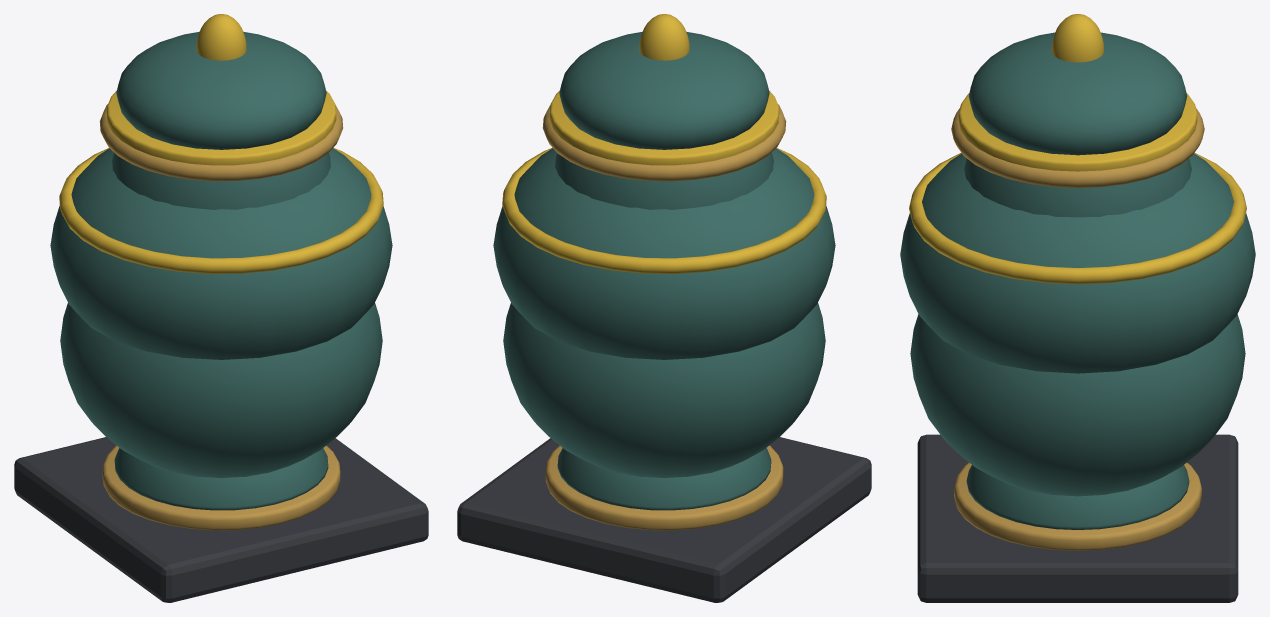
File: furnishing_urn.glb
3 renders of one model, left to right at view 1: azimuth 30°, elevation 25°; view 2: azimuth 150°, elevation 25°; view 3: azimuth 270°, elevation 25°, orthographic. The views are drawn at different scales.
Parts seen in each view (by area): view 1: Urn Body Upper, Urn Body Lower, Urn Plinth, Urn Lid Dome, Urn Lower Foot, Urn Gold Band Upper, Urn Neck, Urn Foot Ring, Urn Lid Rim, Urn Collar Rim, Urn Lid Finial; view 2: Urn Body Upper, Urn Body Lower, Urn Plinth, Urn Lid Dome, Urn Lower Foot, Urn Gold Band Upper, Urn Neck, Urn Foot Ring, Urn Lid Rim, Urn Collar Rim, Urn Lid Finial; view 3: Urn Body Upper, Urn Body Lower, Urn Plinth, Urn Lid Dome, Urn Lower Foot, Urn Gold Band Upper, Urn Neck, Urn Foot Ring, Urn Lid Rim, Urn Collar Rim, Urn Lid Finial.
Boxes of the visible parts, x1,y1,x2,y2 form: Urn Body Upper: (50,148,392,359); Urn Body Lower: (60,303,382,478); Urn Plinth: (14,437,428,602); Urn Lid Dome: (116,31,326,149); Urn Lower Foot: (114,448,328,510); Urn Gold Band Upper: (59,148,383,273); Urn Neck: (112,152,330,209); Urn Foot Ring: (102,445,340,530); Urn Lid Rim: (106,90,336,165); Urn Collar Rim: (99,104,343,181); Urn Lid Finial: (196,14,246,60); Urn Body Upper: (493,148,835,359); Urn Body Lower: (503,303,825,478); Urn Plinth: (457,437,871,602); Urn Lid Dome: (559,31,769,149); Urn Lower Foot: (557,448,771,510); Urn Gold Band Upper: (502,148,826,273); Urn Neck: (555,152,773,209); Urn Foot Ring: (545,445,783,530); Urn Lid Rim: (549,90,779,165); Urn Collar Rim: (542,104,786,181); Urn Lid Finial: (639,14,689,60); Urn Body Upper: (900,153,1255,373); Urn Body Lower: (910,314,1245,496); Urn Plinth: (917,434,1238,602); Urn Lid Dome: (968,32,1187,155); Urn Lower Foot: (966,465,1189,529); Urn Gold Band Upper: (909,152,1246,284); Urn Neck: (964,158,1191,217); Urn Foot Ring: (954,462,1201,550); Urn Lid Rim: (958,93,1197,171); Urn Collar Rim: (951,108,1204,187); Urn Lid Finial: (1051,14,1104,62).
Size of the model in its own units: 0.244 by 0.396 by 0.244.
